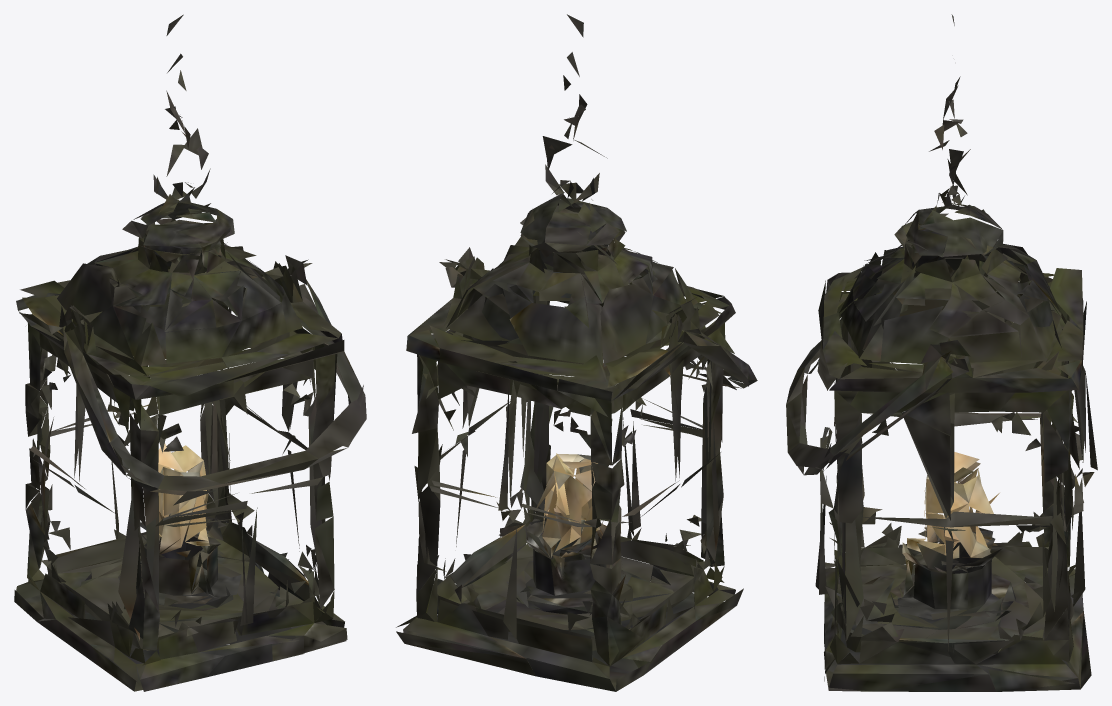
The model's file is lantern.glb.
3 views of the same model, side by side, from view 1: azimuth 30°, elevation 25°; view 2: azimuth 150°, elevation 25°; view 3: azimuth 270°, elevation 25° (orthographic). The views are drawn at different scales.
Visible parts, largest first — view 1: Mesh_0; view 2: Mesh_0; view 3: Mesh_0.
Boxes of the visible parts, bbox=[...] form: Mesh_0: bbox=[14, 14, 366, 691]; Mesh_0: bbox=[396, 14, 757, 691]; Mesh_0: bbox=[786, 14, 1097, 691].
Bounding box in the file's own units: 0.2462 × 0.55 × 0.2491.
Materials: 1 (1 with a texture image).
